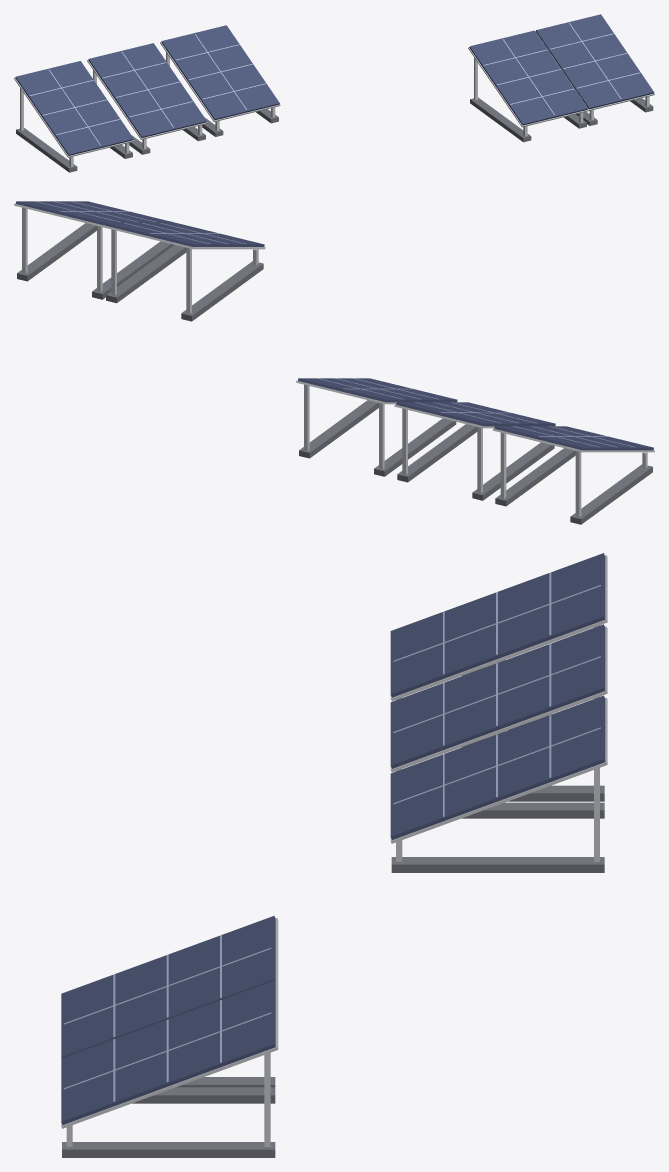
The model's file is einrichtung_solardach_buehne.glb.
The picture shows the model from 3 angles, top to bottom: view 1: azimuth 30°, elevation 25°; view 2: azimuth 150°, elevation 25°; view 3: azimuth 270°, elevation 25°; orthographic projection. The views are drawn at different scales.
Visible parts, largest first — view 1: einrichtung_solardach_buehne; view 2: einrichtung_solardach_buehne; view 3: einrichtung_solardach_buehne.
Boxes of the visible parts, x1=… form: einrichtung_solardach_buehne: x1=14, y1=14, x2=654, y2=172; einrichtung_solardach_buehne: x1=14, y1=201, x2=654, y2=524; einrichtung_solardach_buehne: x1=61, y1=553, x2=607, y2=1157.
Bounding box in the file's own units: 7.6 × 0.8258 × 3.57.
